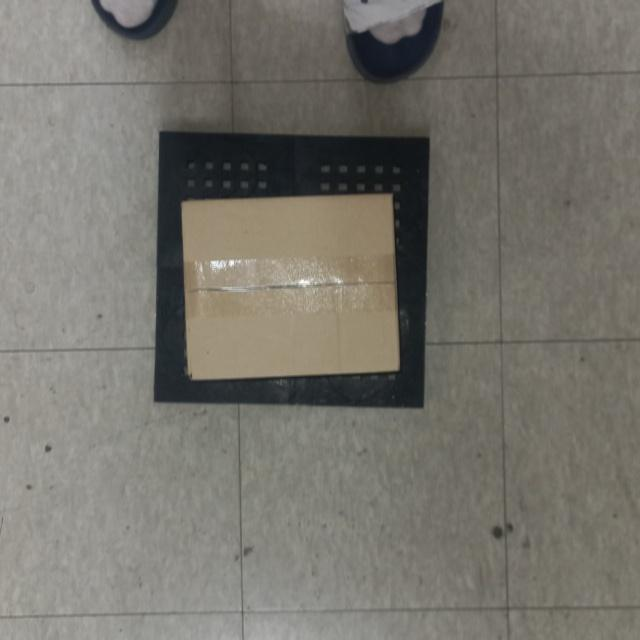box: (178, 186, 406, 382)
pallet: (151, 126, 432, 410)
